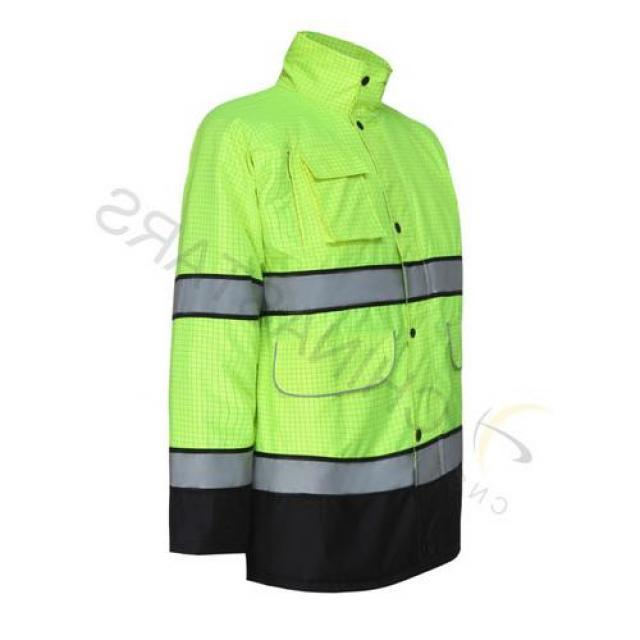reflective_jacket: (135, 37, 487, 614)
